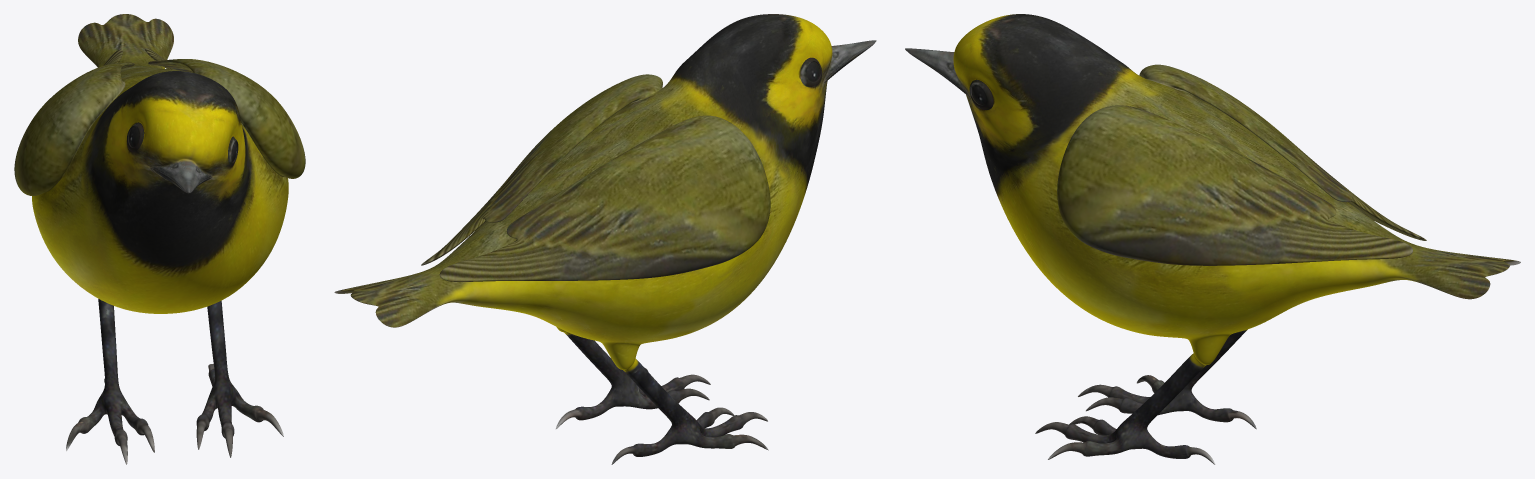
The model's file is yellowbird.gltf.
3 renders of one model, left to right at view 1: azimuth 30°, elevation 25°; view 2: azimuth 150°, elevation 25°; view 3: azimuth 270°, elevation 25°, orthographic. The views are drawn at different scales.
Parts seen in each view (by area): view 1: 12214_Bird_v1max_l3; view 2: 12214_Bird_v1max_l3; view 3: 12214_Bird_v1max_l3.
Part boxes in pixels (box(x1,y1,x2,y2)): 12214_Bird_v1max_l3: box(14, 14, 305, 464); 12214_Bird_v1max_l3: box(334, 14, 876, 464); 12214_Bird_v1max_l3: box(905, 14, 1520, 464).
Size of the model in its own units: 0.3731 by 0.4741 by 0.6815.
Materials: 1 (1 with a texture image).
